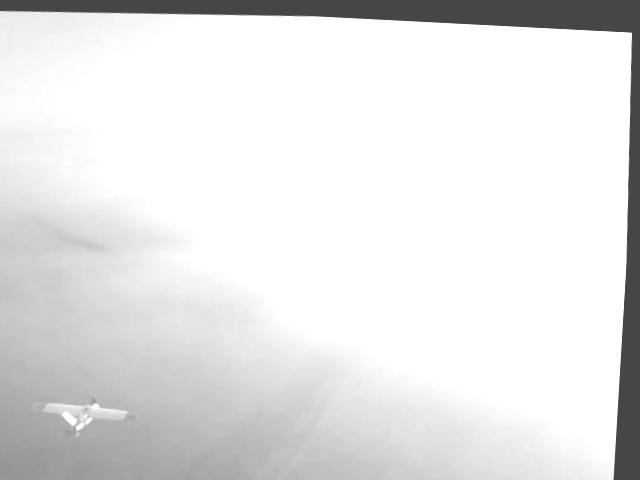hedef: (33, 391, 146, 445)
